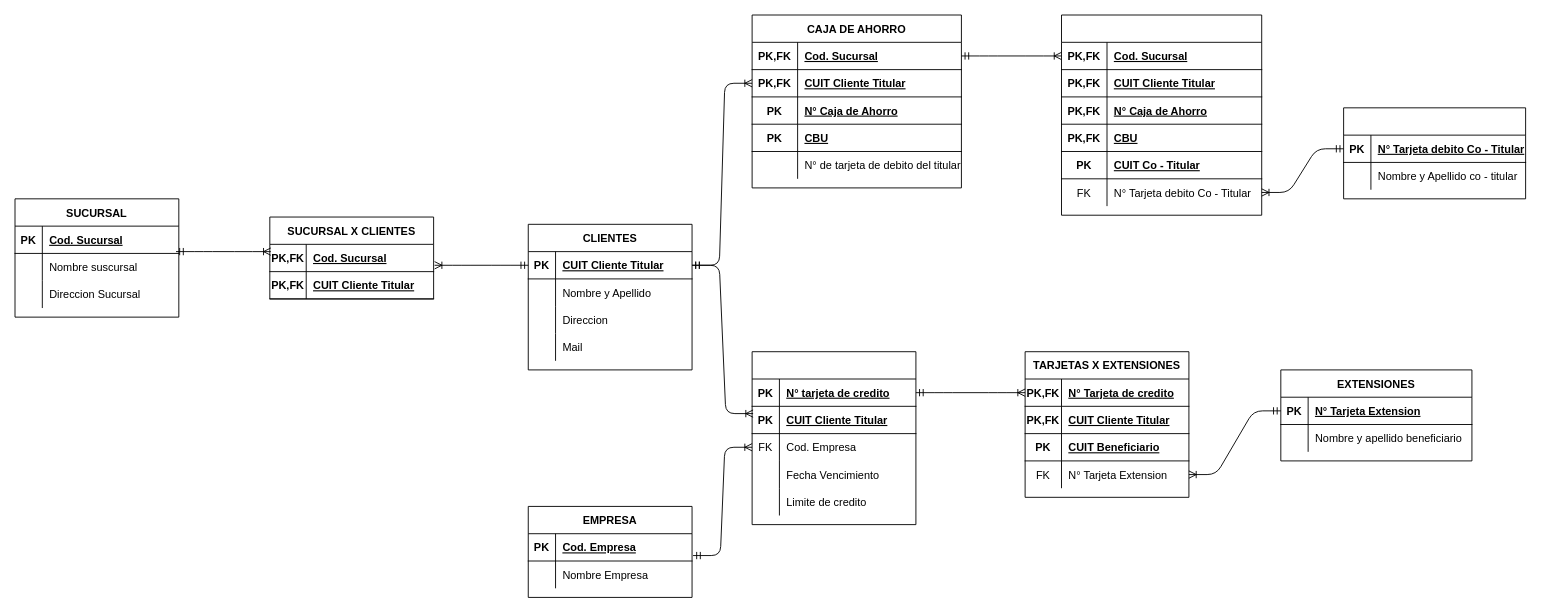
Some shapes in this 1541 by 612 pixel diagram are drawn without their labels. The shapes that lost their labels are listed below. From the top down, each one's box as (x1, y1, x2, y2) in pixels, then its label:
(1061, 14, 1262, 215): CAJA AHORRO X CO - TITULAR
(1343, 107, 1526, 199): CO - TITULARES
(751, 351, 916, 525): TARJETAS DE CREDITO
